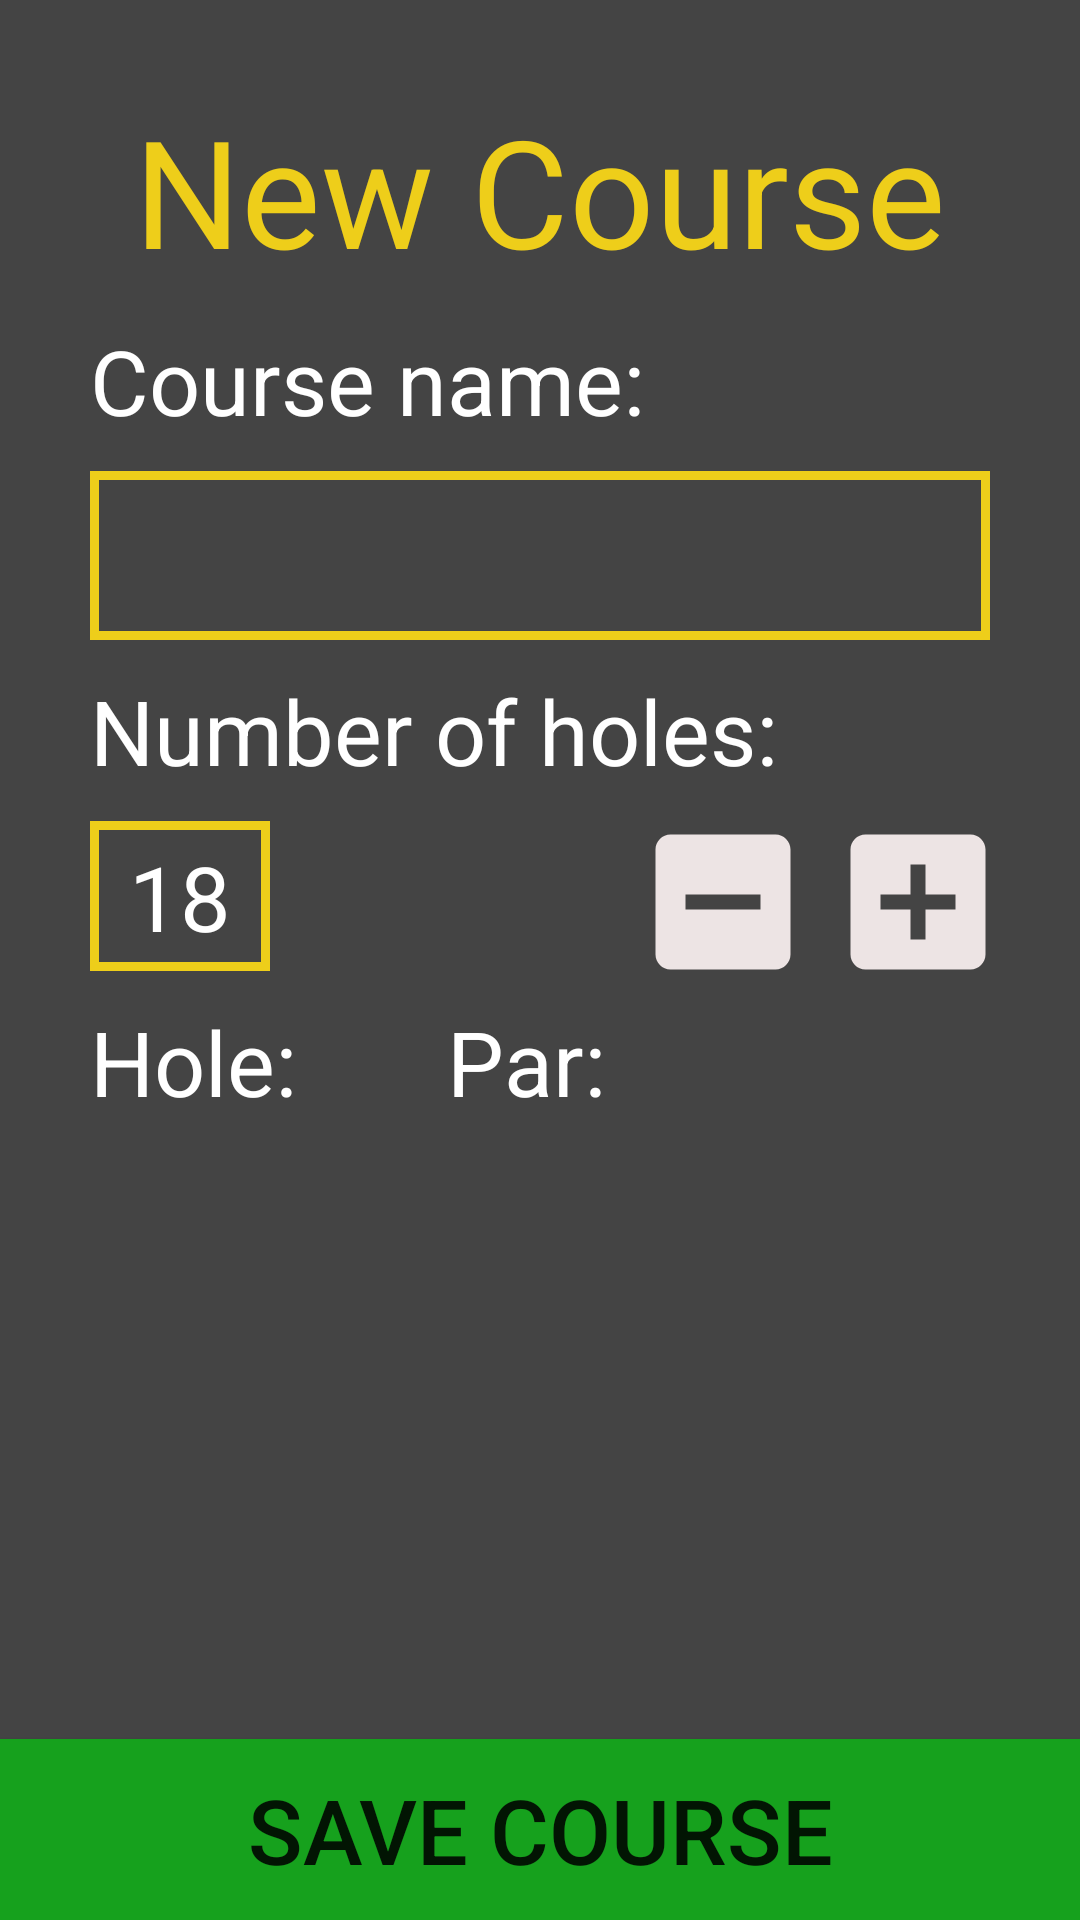

Icon click points for this 1080*1920 phone screenshot, format (x,y):
minus: (723,902)
plus: (918,902)
